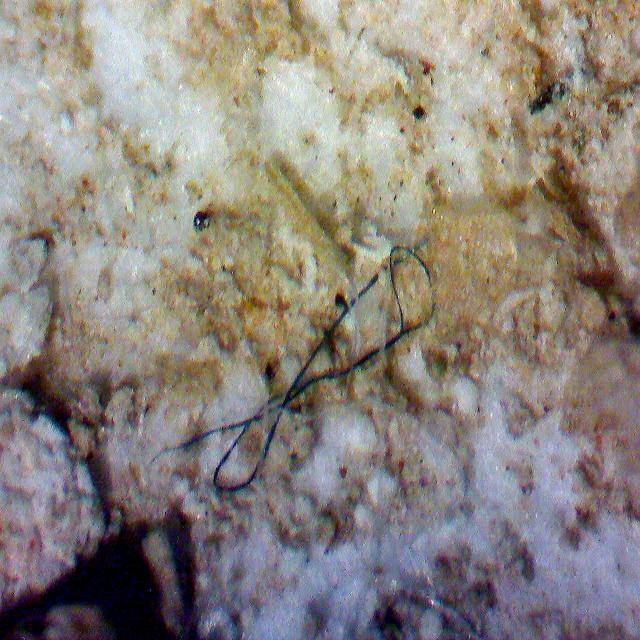microplastic: (152, 245, 436, 491)
